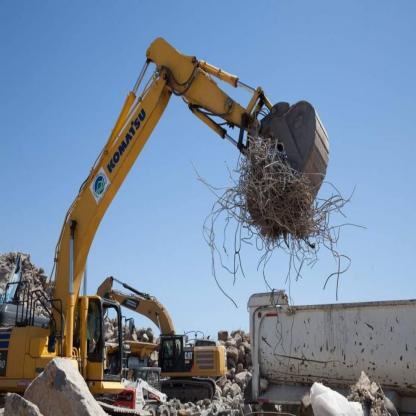rebar: (187, 124, 370, 313)
